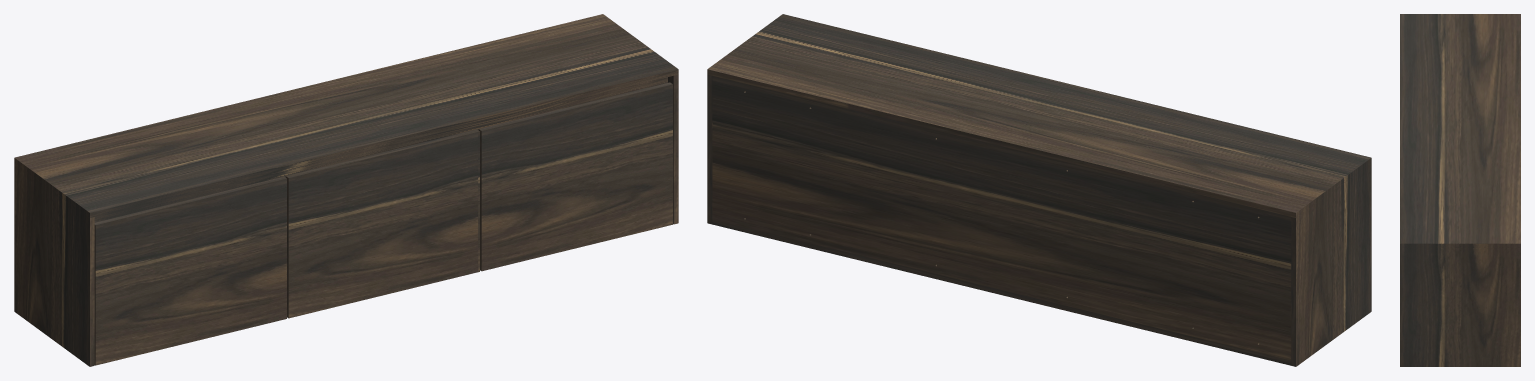
The model's file is 031_Consola-de-TV.glb.
3 renders of one model, left to right at view 1: azimuth 30°, elevation 25°; view 2: azimuth 150°, elevation 25°; view 3: azimuth 270°, elevation 25°, orthographic. The views are drawn at different scales.
Parts seen in each view (by area): view 1: root; view 2: root; view 3: root.
Part boxes in pixels (x1=…): root: x1=14, y1=14, x2=678, y2=366; root: x1=707, y1=14, x2=1371, y2=366; root: x1=1400, y1=14, x2=1520, y2=366.
Bounding box in the file's own units: 1.8 × 0.45 × 0.4.
Materials: 4 (4 with a texture image).
